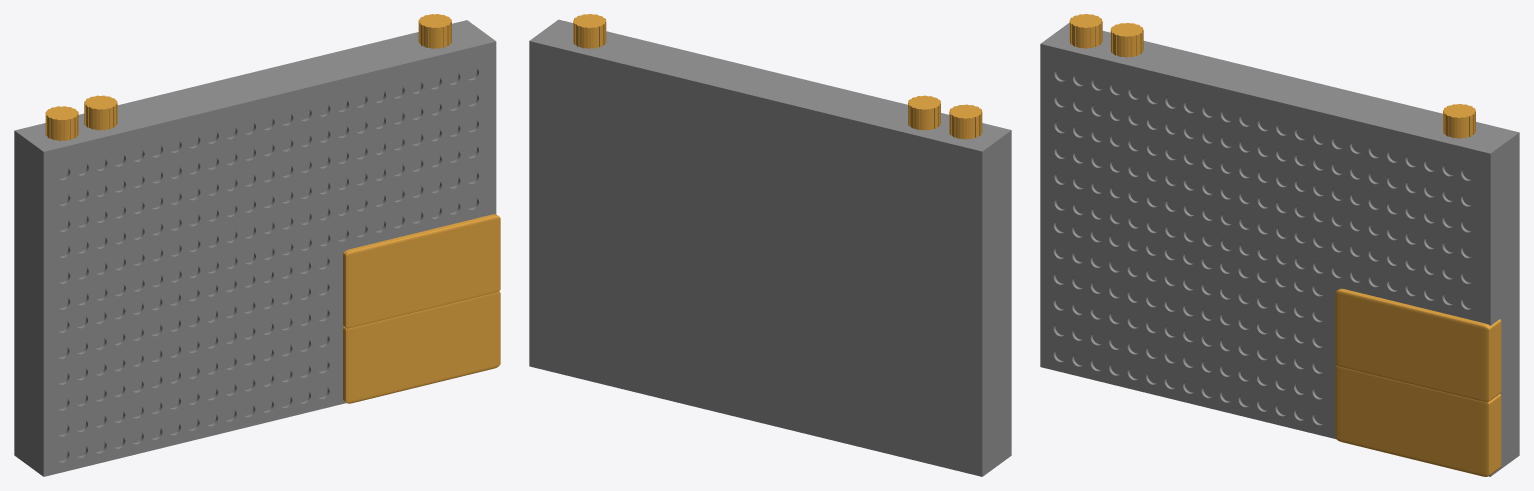
File: instrument6.3.glb
3 views of the same model, side by side, from view 1: azimuth 30°, elevation 25°; view 2: azimuth 150°, elevation 25°; view 3: azimuth 330°, elevation 25° (orthographic).
Visible parts, largest first — view 1: Cube.003; view 2: Cube.003; view 3: Cube.003.
Boxes of the visible parts, box(x1,y1,x2,y2) form: Cube.003: box(14, 14, 500, 476); Cube.003: box(529, 14, 1011, 476); Cube.003: box(1040, 14, 1519, 476).
Bounding box in the file's own units: 3.05 × 2.22 × 0.3765.
